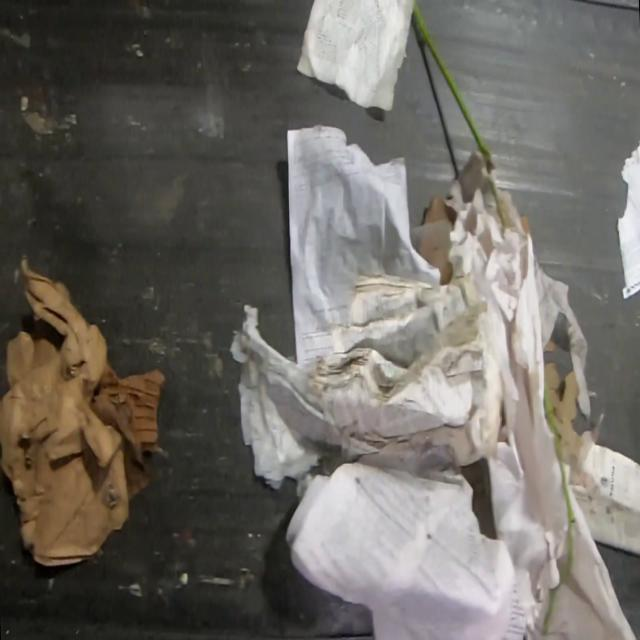cardboard: (1, 257, 176, 569), (543, 359, 582, 462)
